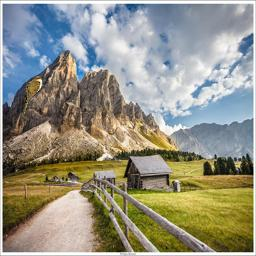Cuckoo: (22, 76, 43, 116)
